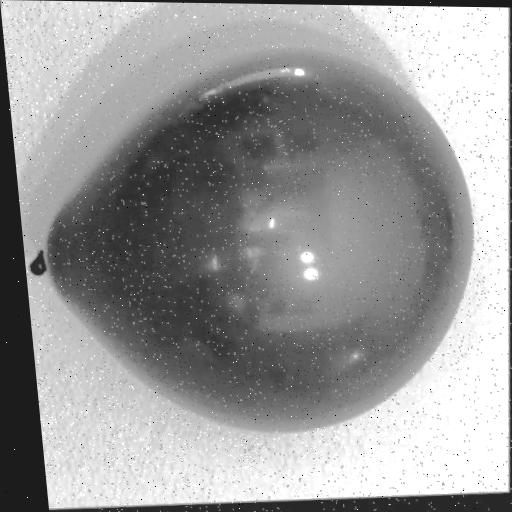balloon: (4, 37, 512, 453)
